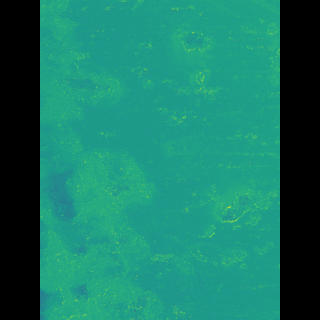Loch: (69, 0, 168, 320), (171, 173, 244, 277)
